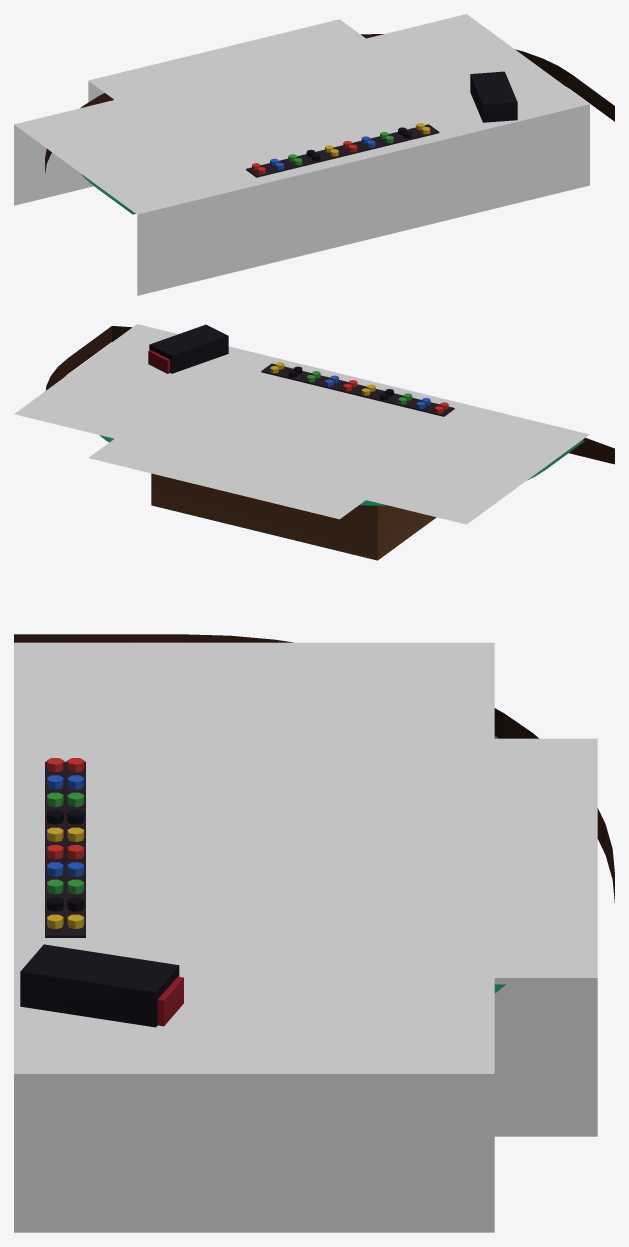
The model's file is blackjack_table.glb.
3 renders of one model, top to bottom at view 1: azimuth 30°, elevation 25°; view 2: azimuth 150°, elevation 25°; view 3: azimuth 270°, elevation 25°, orthographic. The views are drawn at different scales.
Parts seen in each view (by area): view 1: COL_0, COL_1, blackjack_table; view 2: COL_0, blackjack_table, COL_1; view 3: COL_0, COL_1, blackjack_table.
Boxes of the visible parts, x1,y1,x2,y2 form: COL_0: (14, 14, 589, 295); COL_1: (88, 19, 367, 102); blackjack_table: (45, 34, 614, 214); COL_0: (14, 324, 589, 524); blackjack_table: (45, 324, 614, 560); COL_1: (89, 437, 367, 519); COL_0: (14, 642, 494, 1232); COL_1: (486, 738, 597, 1136); blackjack_table: (14, 634, 614, 1027).
Size of the model in its own units: 6.6 by 1.25 by 3.5.
